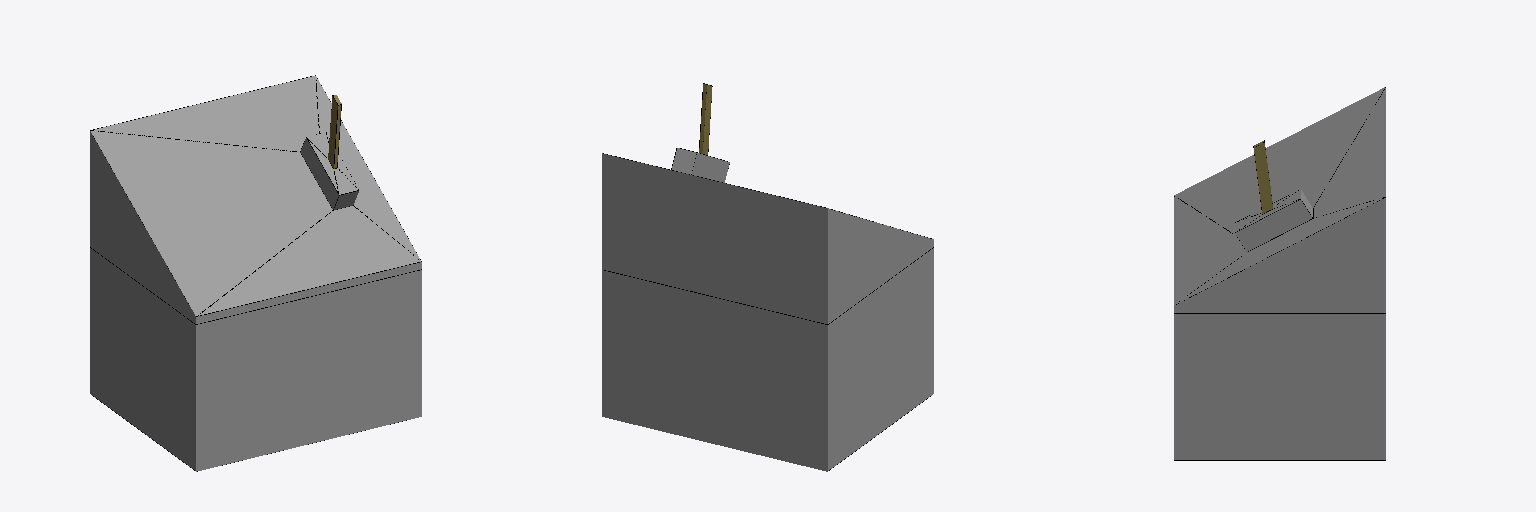
The picture shows the model from 3 angles: view 1: azimuth 30°, elevation 25°; view 2: azimuth 150°, elevation 25°; view 3: azimuth 270°, elevation 25°; orthographic projection.
Parts seen in each view (by area): view 1: leaver_Cube.015; view 2: leaver_Cube.015; view 3: leaver_Cube.015.
Part boxes in pixels (bbox=[...]): leaver_Cube.015: bbox=[90, 75, 421, 471]; leaver_Cube.015: bbox=[602, 83, 933, 471]; leaver_Cube.015: bbox=[1174, 87, 1385, 460].
Bounding box in the file's own units: 0.6891 × 0.8724 × 0.5617.
Materials: 1 (1 with a texture image).